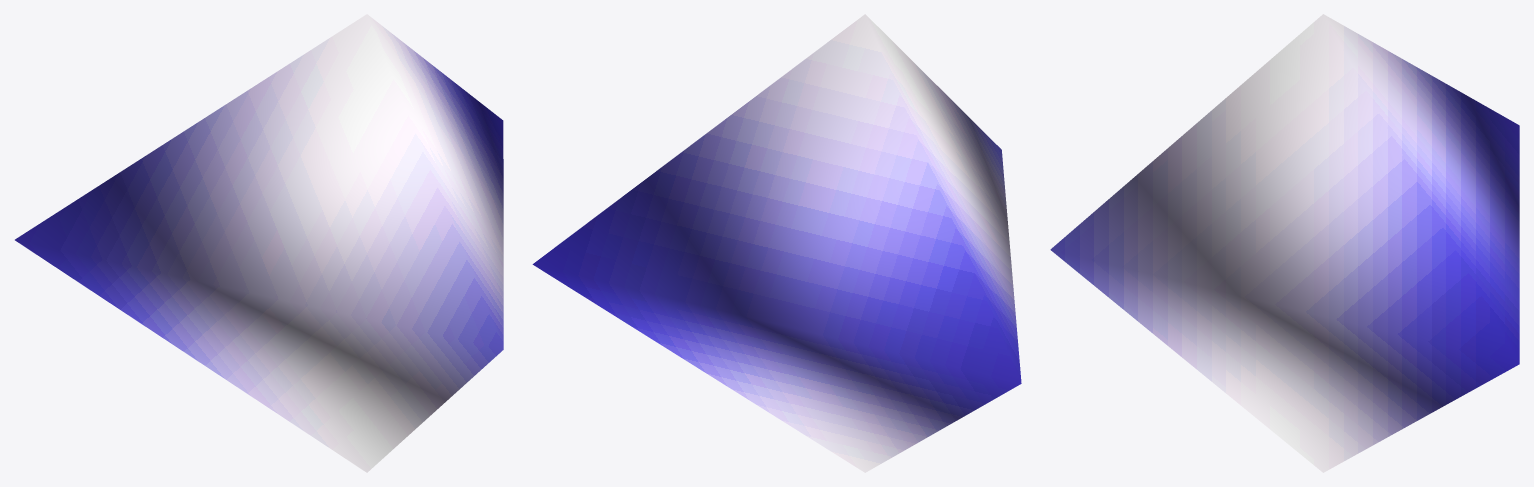
3 views of the same model, side by side, from view 1: azimuth 30°, elevation 25°; view 2: azimuth 150°, elevation 25°; view 3: azimuth 270°, elevation 25° (orthographic).
Parts seen in each view (by area): view 1: c310ca18; view 2: c310ca18; view 3: c310ca18.
Part boxes in pixels (left/top/right/bottom): c310ca18: left=15, top=14, right=503, bottom=472; c310ca18: left=532, top=14, right=1021, bottom=472; c310ca18: left=1050, top=14, right=1519, bottom=472.
Size of the model in its own units: 2.35 by 2.11 by 1.95.
1 material, 1 textured.
